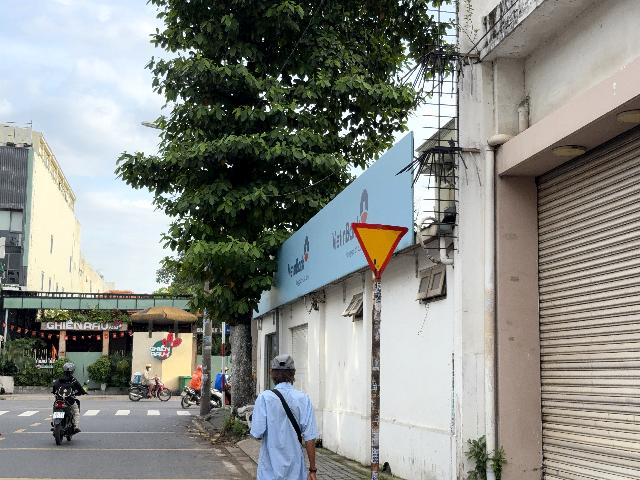giao-nhau-voi-duong-uu-tien: (350, 222, 409, 278)
